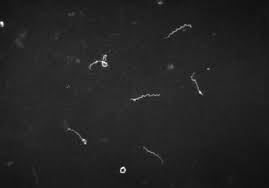sphyillis: (65, 122, 89, 147), (162, 20, 193, 39), (141, 144, 164, 164), (187, 69, 203, 96), (88, 52, 108, 72), (128, 91, 161, 101)
